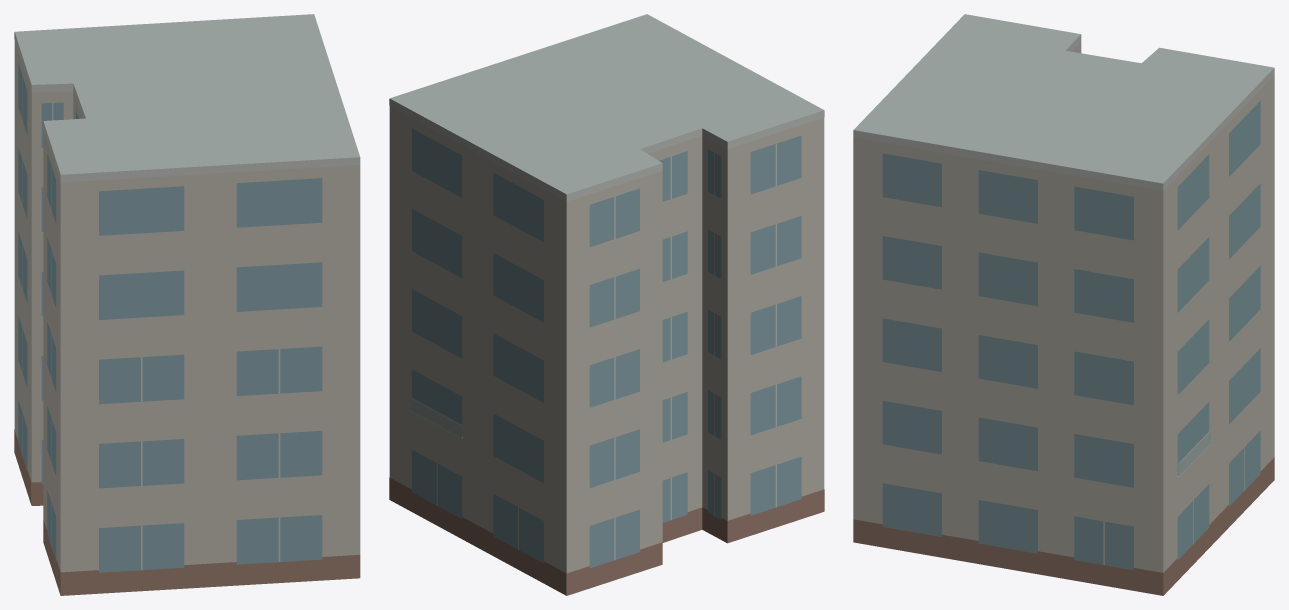
Rendered from survey-upis-32535274.glb.
The picture shows the model from 3 angles, left to right: view 1: azimuth 30°, elevation 25°; view 2: azimuth 150°, elevation 25°; view 3: azimuth 270°, elevation 25°; orthographic projection. The views are drawn at different scales.
Parts seen in each view (by area): view 1: survey-upis-32535274.tmp; view 2: survey-upis-32535274.tmp; view 3: survey-upis-32535274.tmp.
Part boxes in pixels (x1,y1,x2,y2): survey-upis-32535274.tmp: (14, 14, 360, 595); survey-upis-32535274.tmp: (389, 14, 824, 595); survey-upis-32535274.tmp: (853, 14, 1274, 595).
Bounding box in the file's own units: 11.83 × 13.4 × 12.42.
